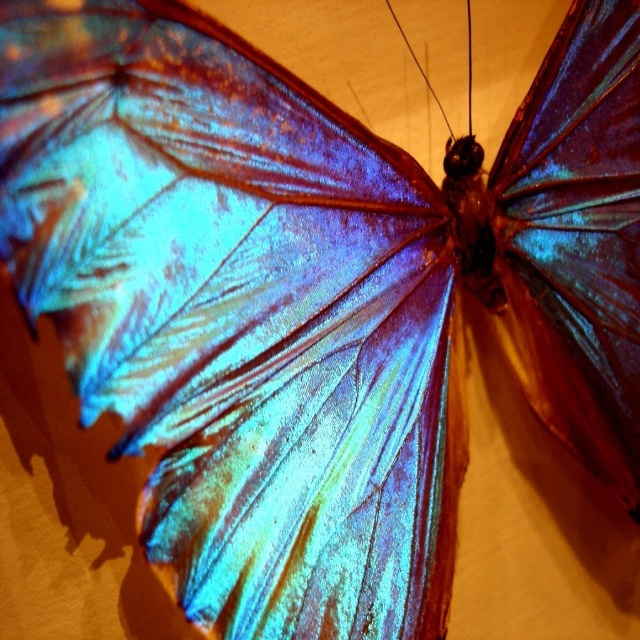Butterfly: (85, 4, 632, 640)
